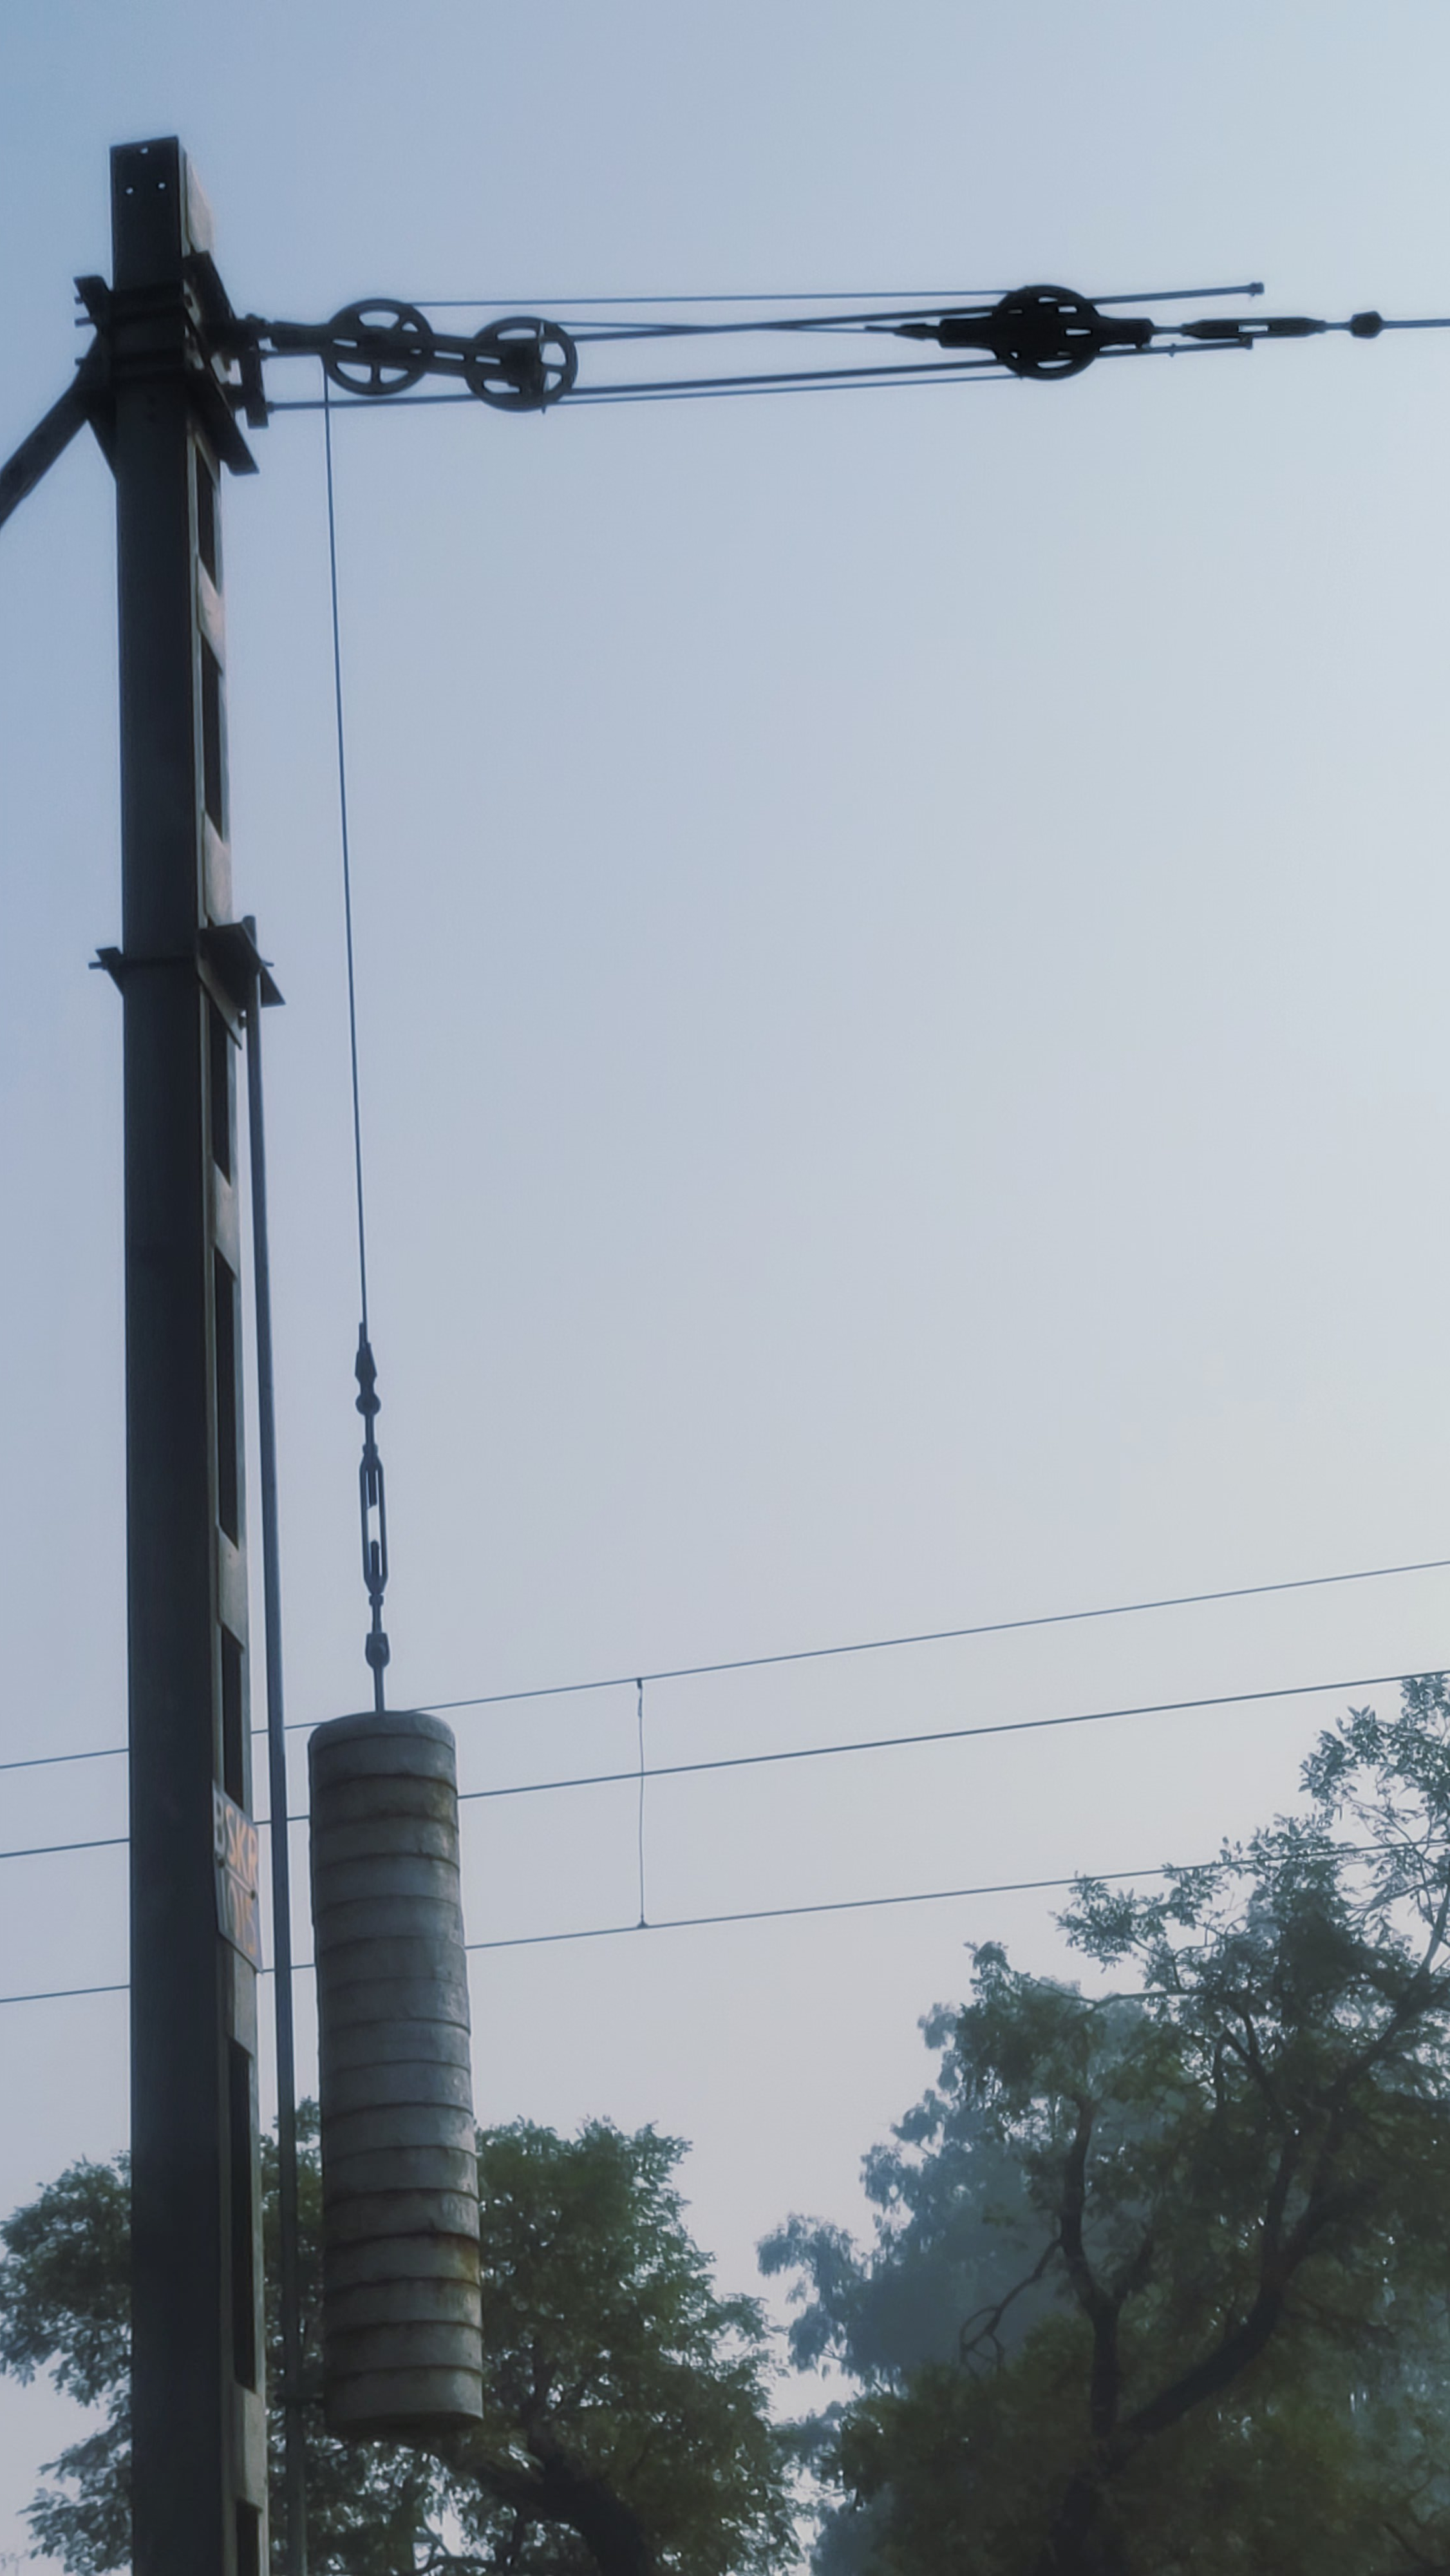counter weight: (294, 1697, 525, 2447)
pulley: (1001, 239, 1103, 403), (462, 297, 585, 421), (318, 287, 435, 403)
